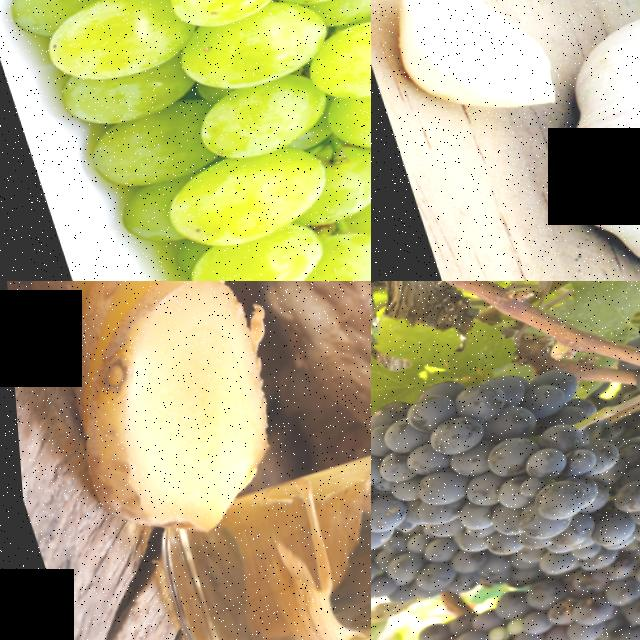garlic: (371, 0, 560, 149), (546, 0, 640, 281)
grapes: (0, 0, 371, 281), (371, 342, 625, 629), (395, 546, 640, 640), (585, 422, 640, 562)
